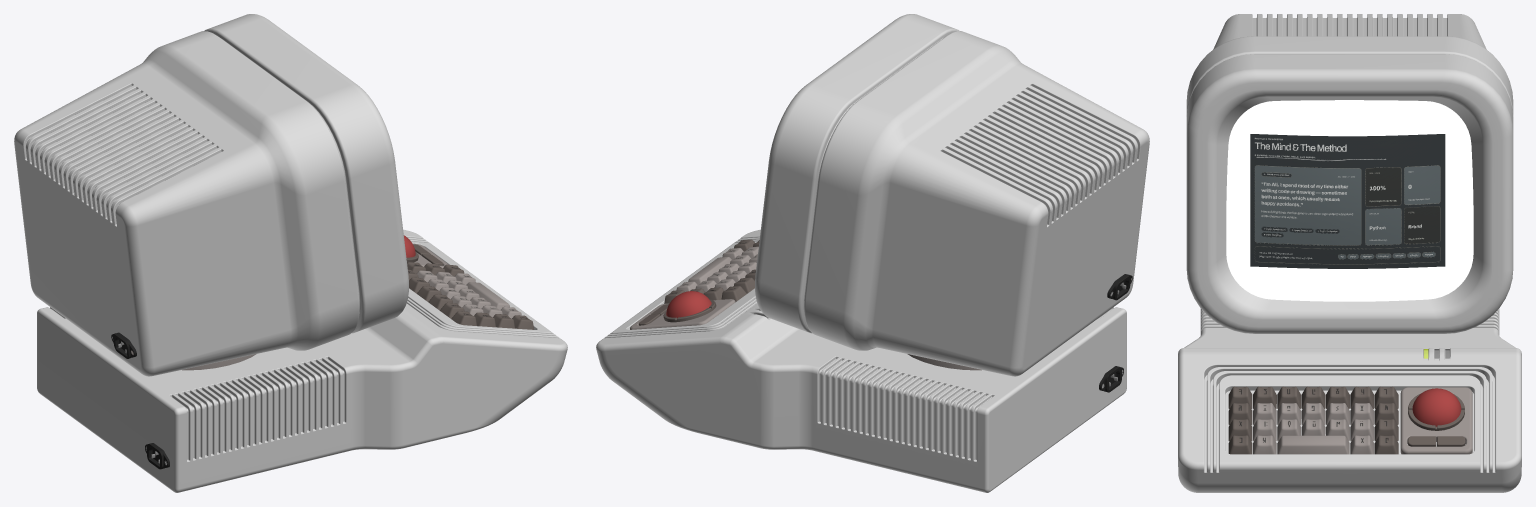
The model's file is retro_computer.glb.
3 views of the same model, side by side, from view 1: azimuth 30°, elevation 25°; view 2: azimuth 150°, elevation 25°; view 3: azimuth 270°, elevation 25° (orthographic). The views are drawn at different scales.
Parts seen in each view (by area): view 1: Part2, Part1; view 2: Part2, Part1; view 3: Part2, Screenshot 2026-09-02 at 10-47-16 Ali Imad — Developer & Gra, Plane, Part1.
Boxes of the visible parts, x1=… form: Part2: x1=14, y1=14, x2=567, y2=492; Part1: x1=111, y1=235, x2=533, y2=469; Part2: x1=596, y1=14, x2=1149, y2=492; Part1: x1=630, y1=239, x2=1132, y2=392; Part2: x1=1178, y1=14, x2=1521, y2=492; Screenshot 2026-09-02 at 10-47-16 Ali Imad — Developer & Gra: x1=1250, y1=134, x2=1445, y2=268; Plane: x1=1226, y1=100, x2=1473, y2=301; Part1: x1=1228, y1=349, x2=1472, y2=454.
Bounding box in the file's own units: 2 × 1.55 × 1.32.
Materials: 4 (2 with a texture image).
